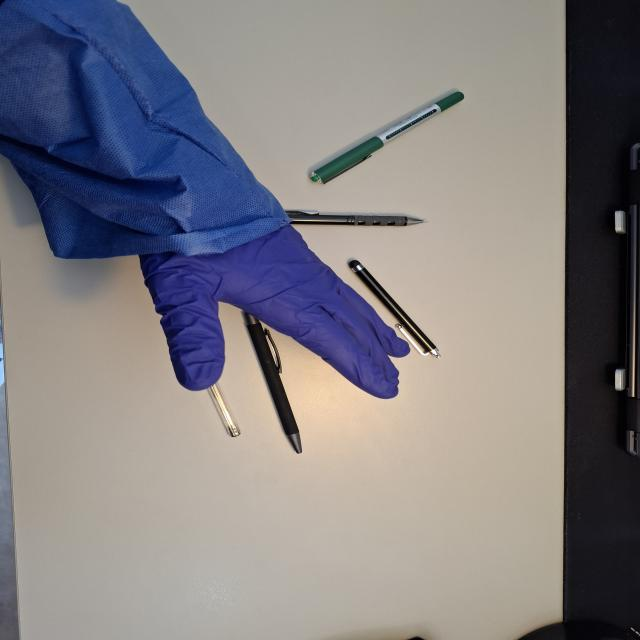glove_on: (132, 204, 413, 401)
